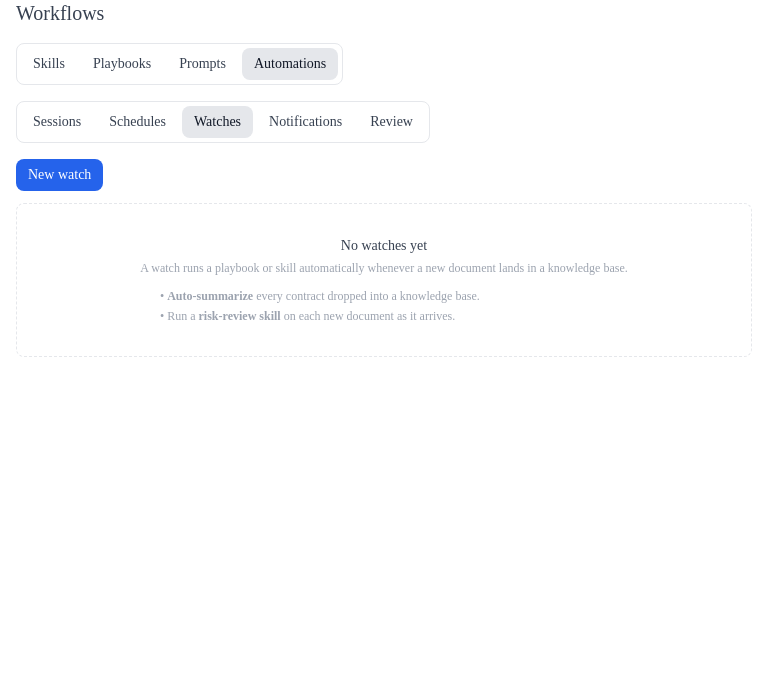
Test: /automations/watches page › reveals the inline create form when "New watch" is clicked
Expected: the button "save watch" is not shown
What coordinates should you click on to do the following:
click the button "New watch"
I would click on:
 (60, 175)
Its box is [16, 159, 103, 191].
(page scrolled)
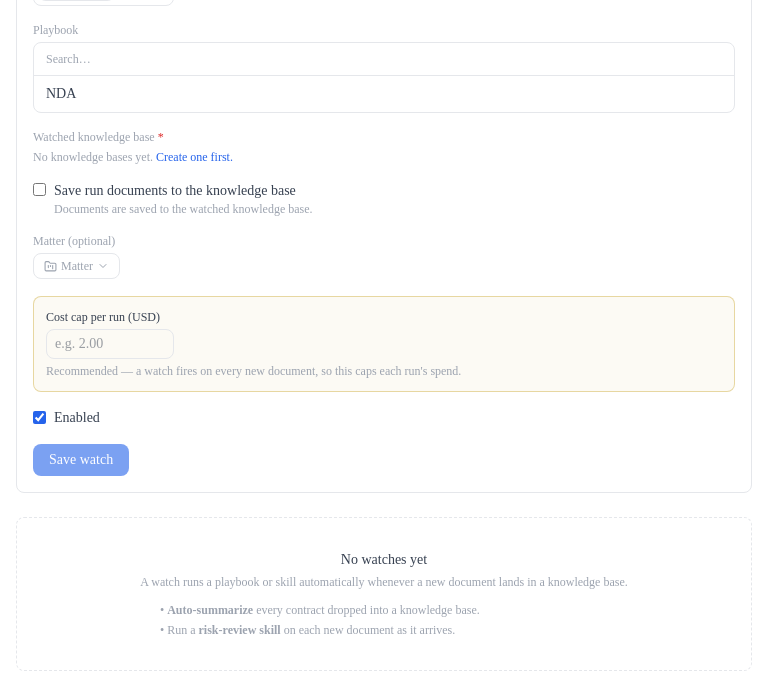
Result: the button "Save watch" is shown at [33, 444, 129, 476]
